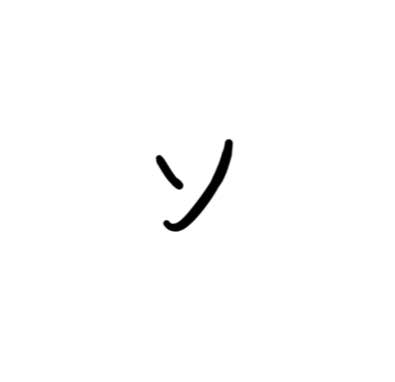n: (142, 134, 239, 239)
